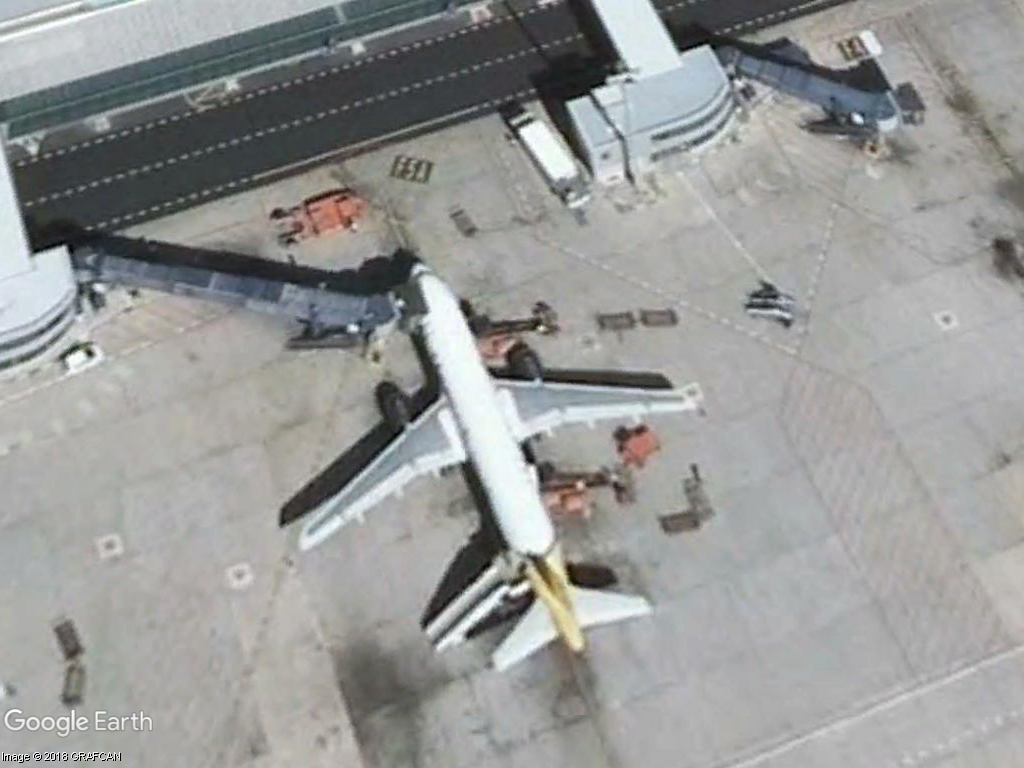airliner: (271, 265, 697, 680)
pushbacktruck: (262, 193, 377, 250)
stairtruck: (408, 557, 515, 649), (735, 279, 807, 331)
